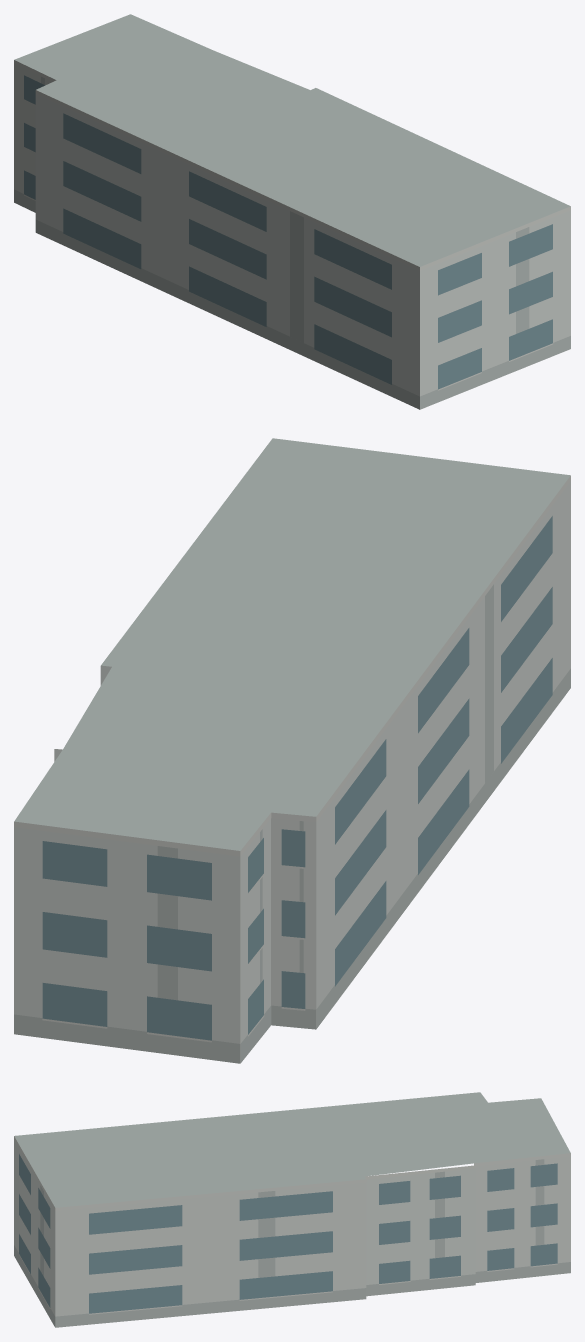
Rendered from survey-upis-32899844.glb.
The picture shows the model from 3 angles, top to bottom: view 1: azimuth 30°, elevation 25°; view 2: azimuth 150°, elevation 25°; view 3: azimuth 270°, elevation 25°; orthographic projection. The views are drawn at different scales.
Parts seen in each view (by area): view 1: survey-upis-32899844.tmp; view 2: survey-upis-32899844.tmp; view 3: survey-upis-32899844.tmp.
Boxes of the visible parts, box(x1,y1,x2,y2) form: survey-upis-32899844.tmp: box(14, 14, 570, 409); survey-upis-32899844.tmp: box(14, 438, 570, 1063); survey-upis-32899844.tmp: box(14, 1092, 570, 1327).
Size of the model in its own units: 18.94 by 9.15 by 38.52.
